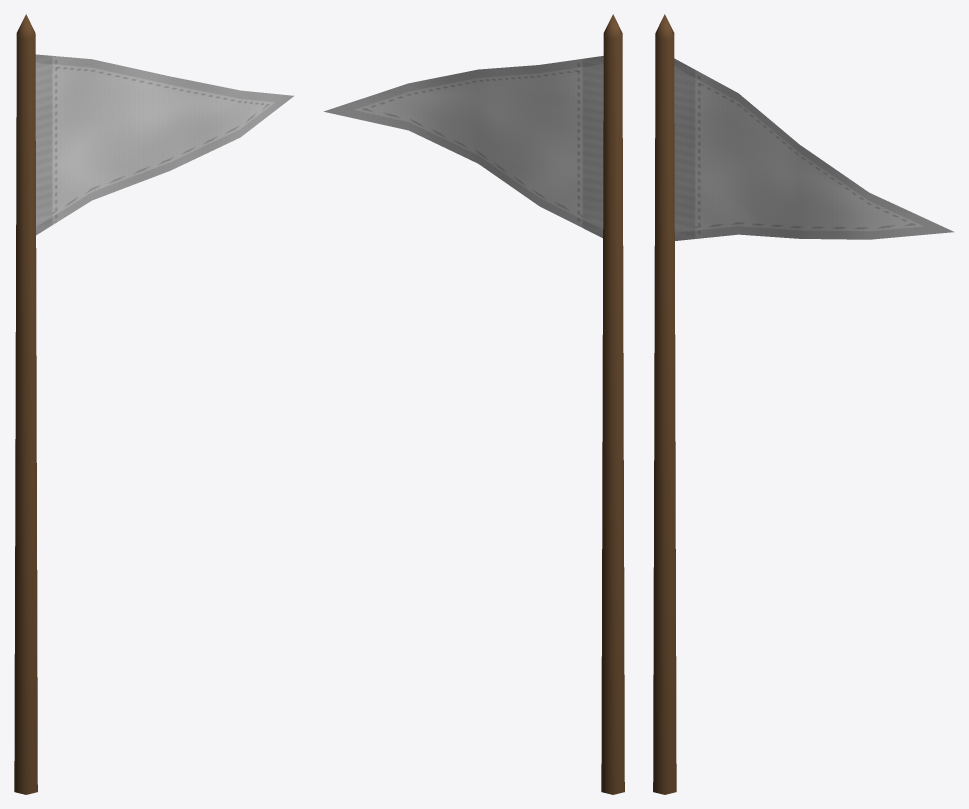
File: pennant.fbx
The picture shows the model from 3 angles, left to right: view 1: azimuth 30°, elevation 25°; view 2: azimuth 150°, elevation 25°; view 3: azimuth 330°, elevation 25°; orthographic projection.
Parts seen in each view (by area): view 1: Pennant_Flag, Pennant_Pole; view 2: Pennant_Flag, Pennant_Pole; view 3: Pennant_Flag, Pennant_Pole.
Part boxes in pixels (left/top/right/bottom): Pennant_Flag: left=35, top=54, right=293, bottom=235; Pennant_Pole: left=14, top=14, right=37, bottom=794; Pennant_Flag: left=324, top=56, right=603, bottom=237; Pennant_Pole: left=601, top=14, right=624, bottom=794; Pennant_Flag: left=674, top=58, right=953, bottom=240; Pennant_Pole: left=653, top=14, right=676, bottom=794.
Size of the model in its own units: 0.646 by 1.64 by 0.0639.
